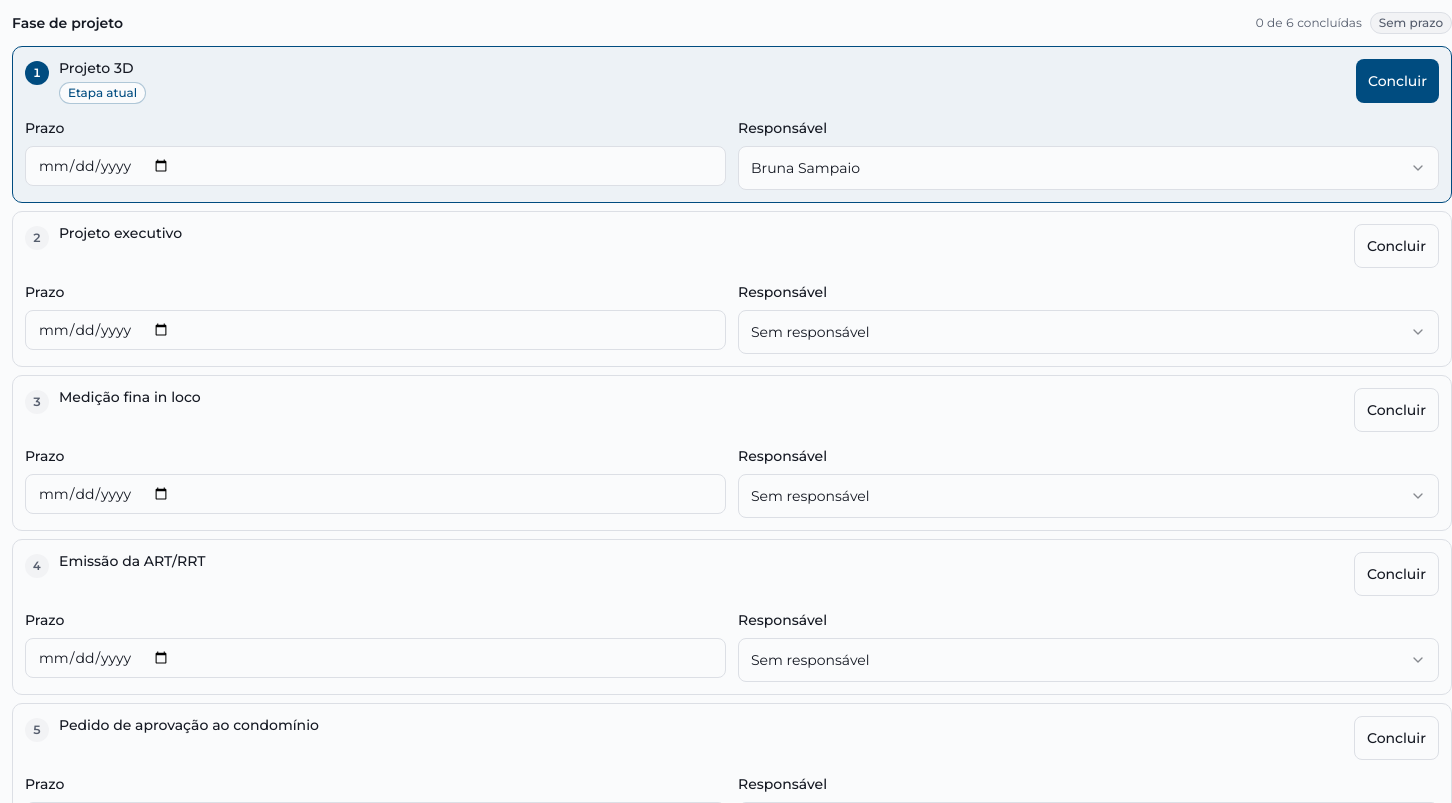
Fase de projeto: prazo e responsável › responsável: toda a equipe ativa (não só coordenadoras de obra)
Later steps or results of the test are not shown.
Click the dropdown named "Responsável": {"x": 805, "y": 168} [738, 146, 1439, 190]
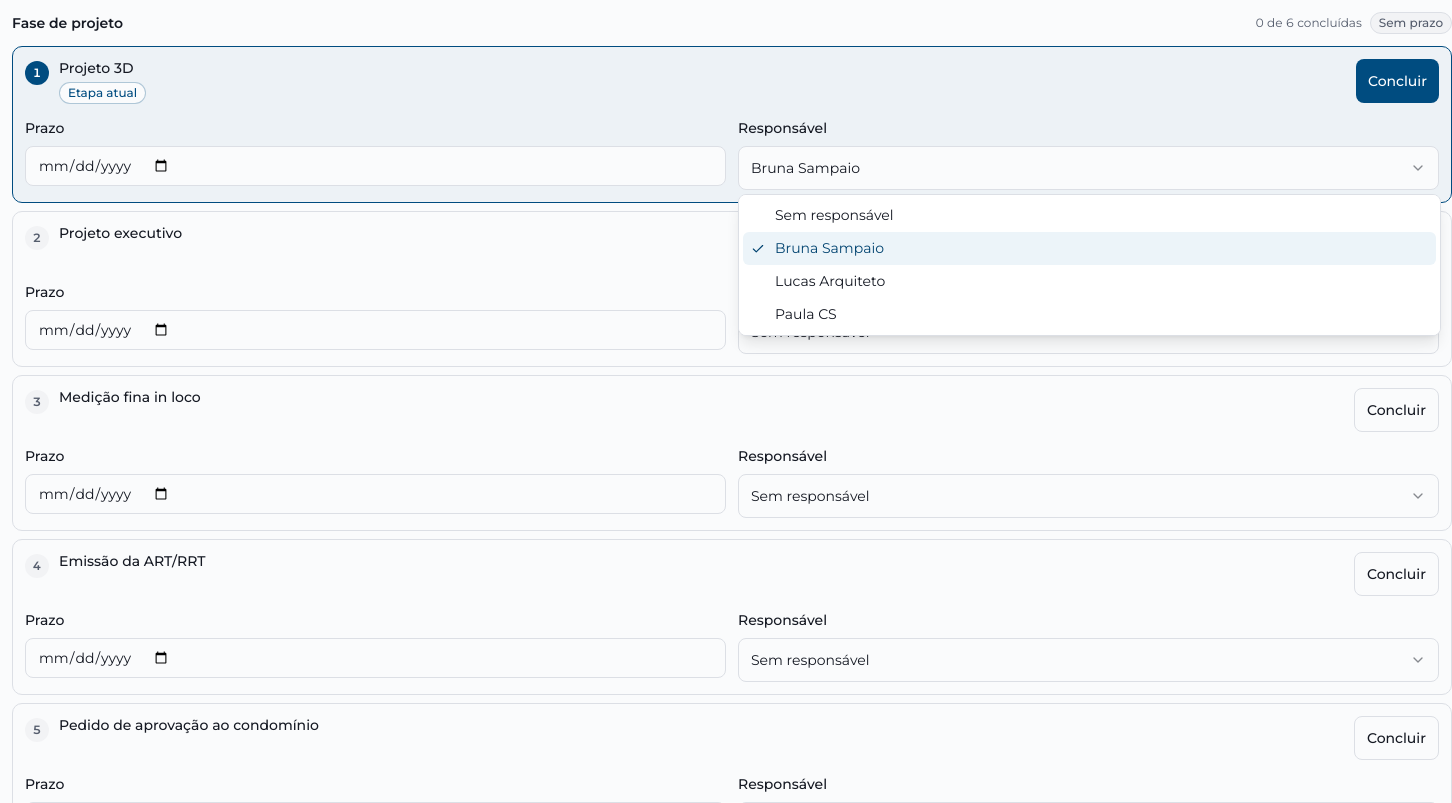
Check: the options read "Sem responsável", "Bruna Sampaio", "Lucas Arquiteto", "Paula CS", in this order, box [775, 206, 894, 224]; [743, 232, 1436, 265]; [775, 272, 885, 290]; [775, 305, 837, 323]
